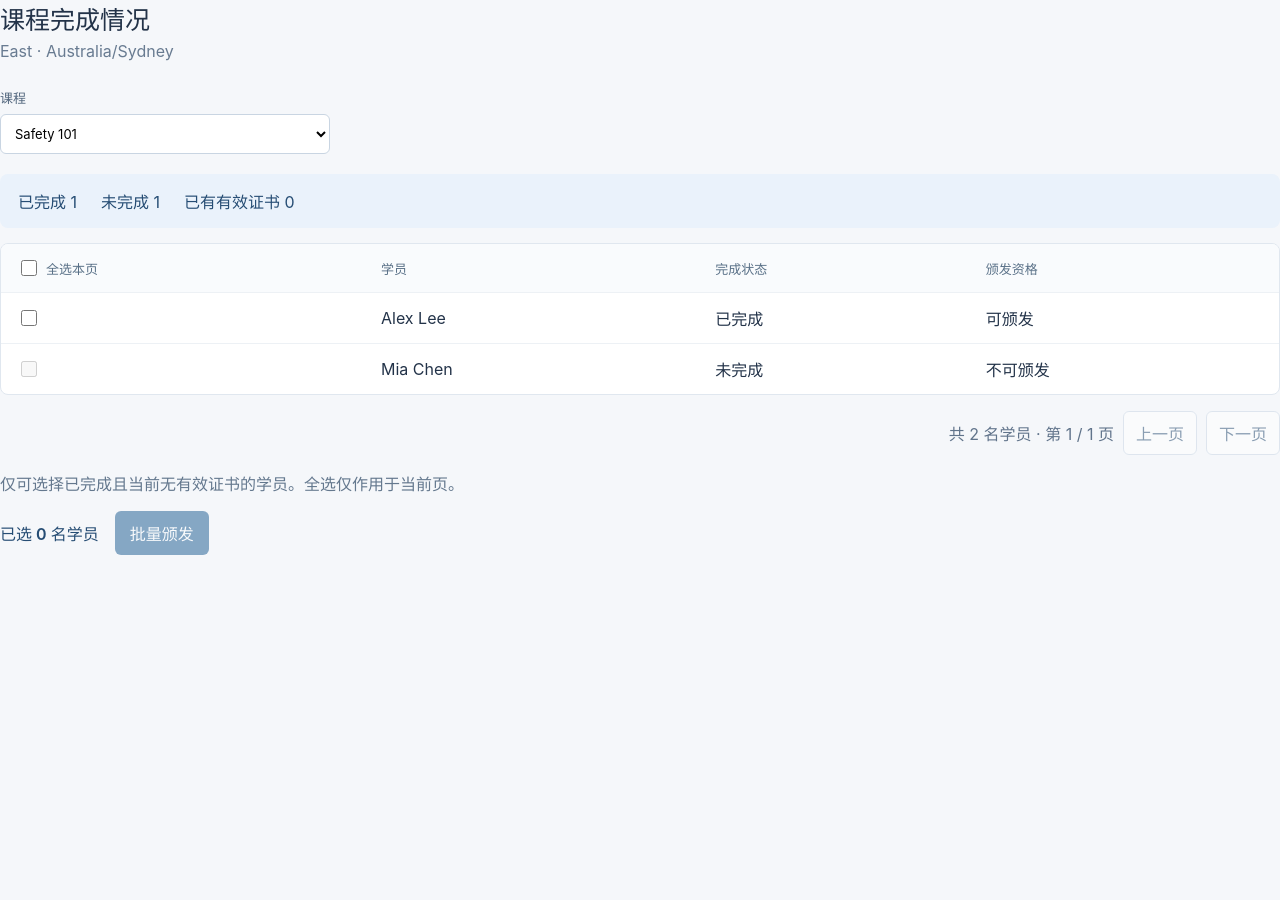
Scenario: retries an uncertain bulk issue with one key and shows every learner outcome
The image size is (1280, 900).
Expected: the text "Alex Lee" is shown, [365,292,699,344]
Click the checkbox named "选择 Alex Lee" at (29, 318), box [21,310,37,326]
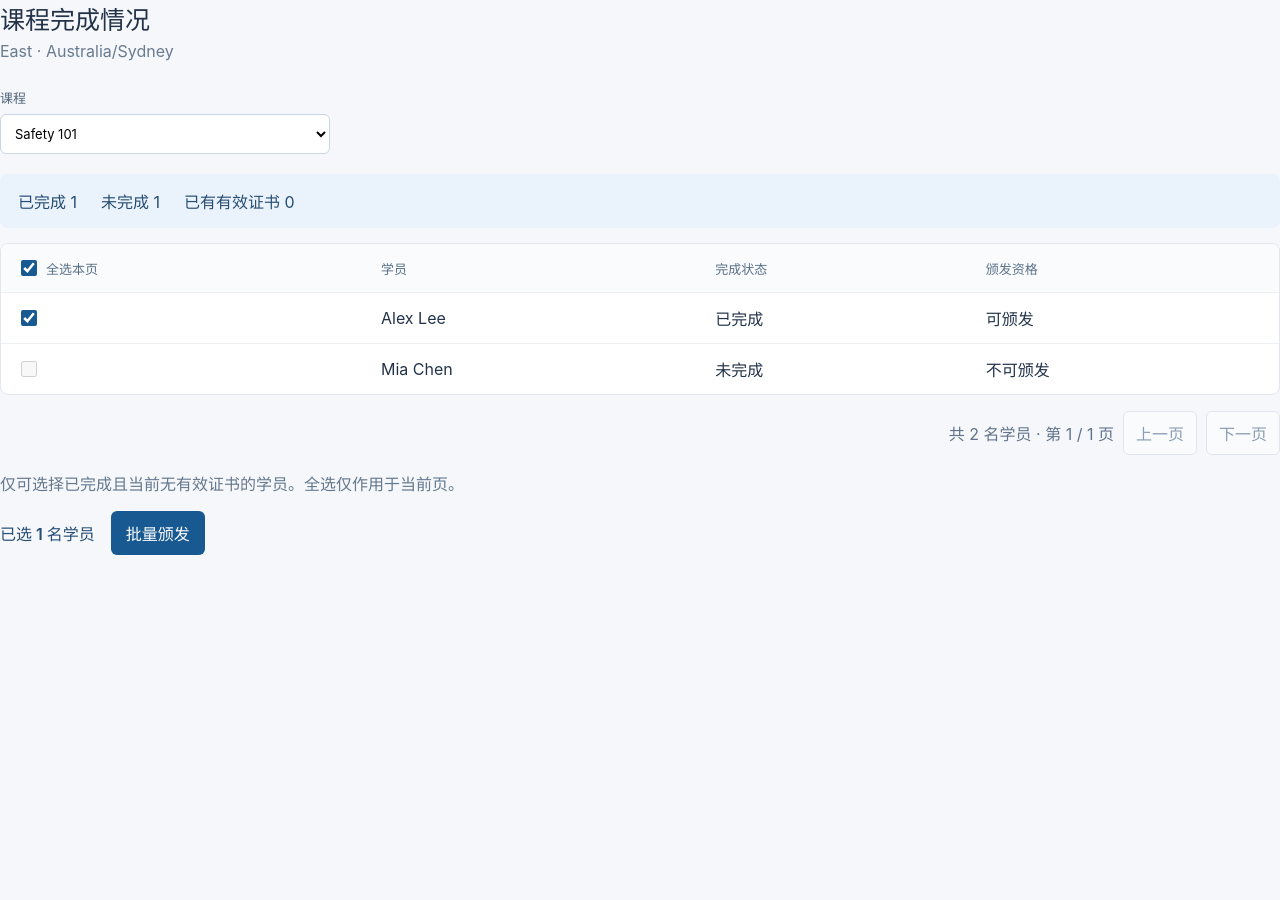
Click the button "批量颁发" at (158, 533), box [111,511,205,555]
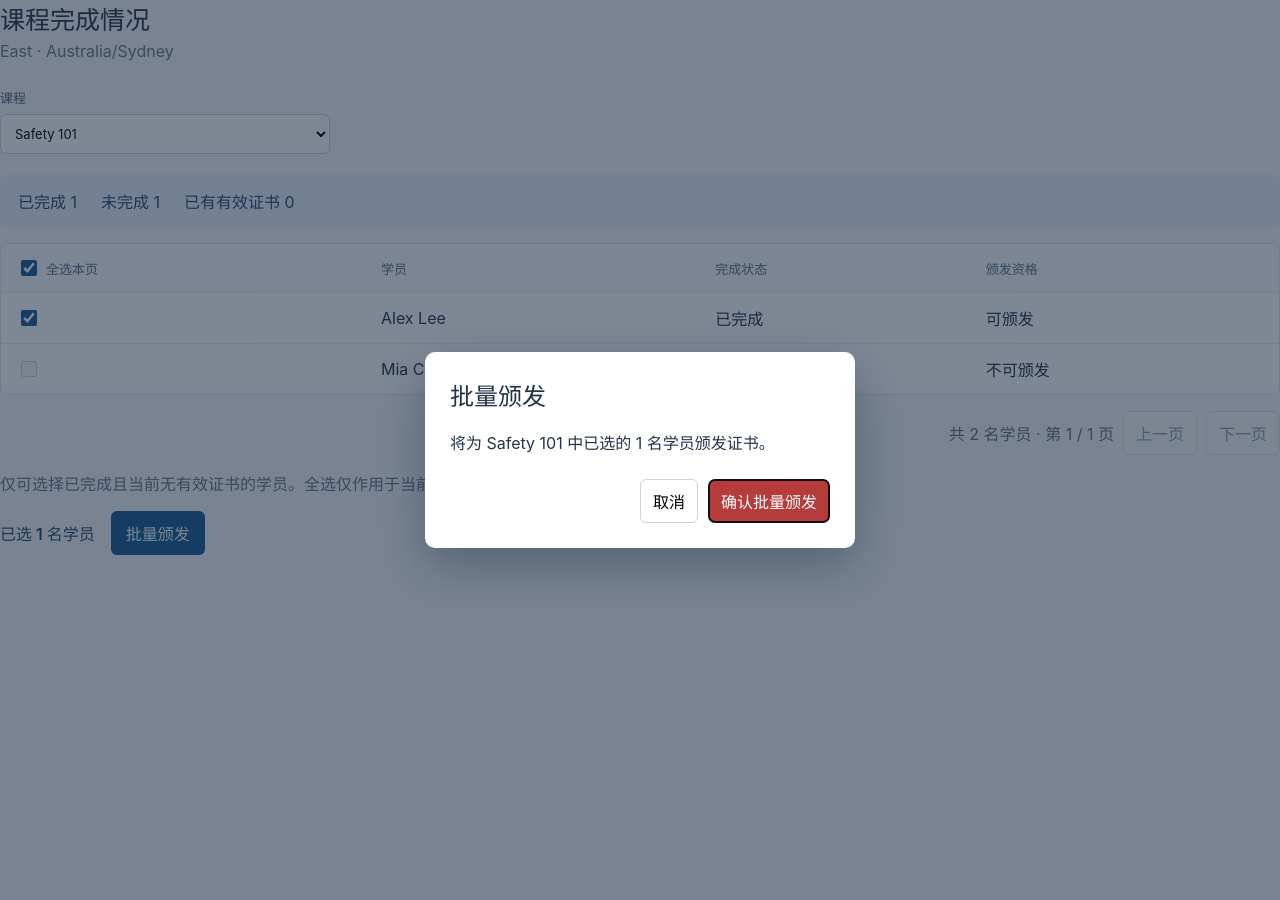
Click the button "确认批量颁发" at (769, 502), box [708,480,830,524]
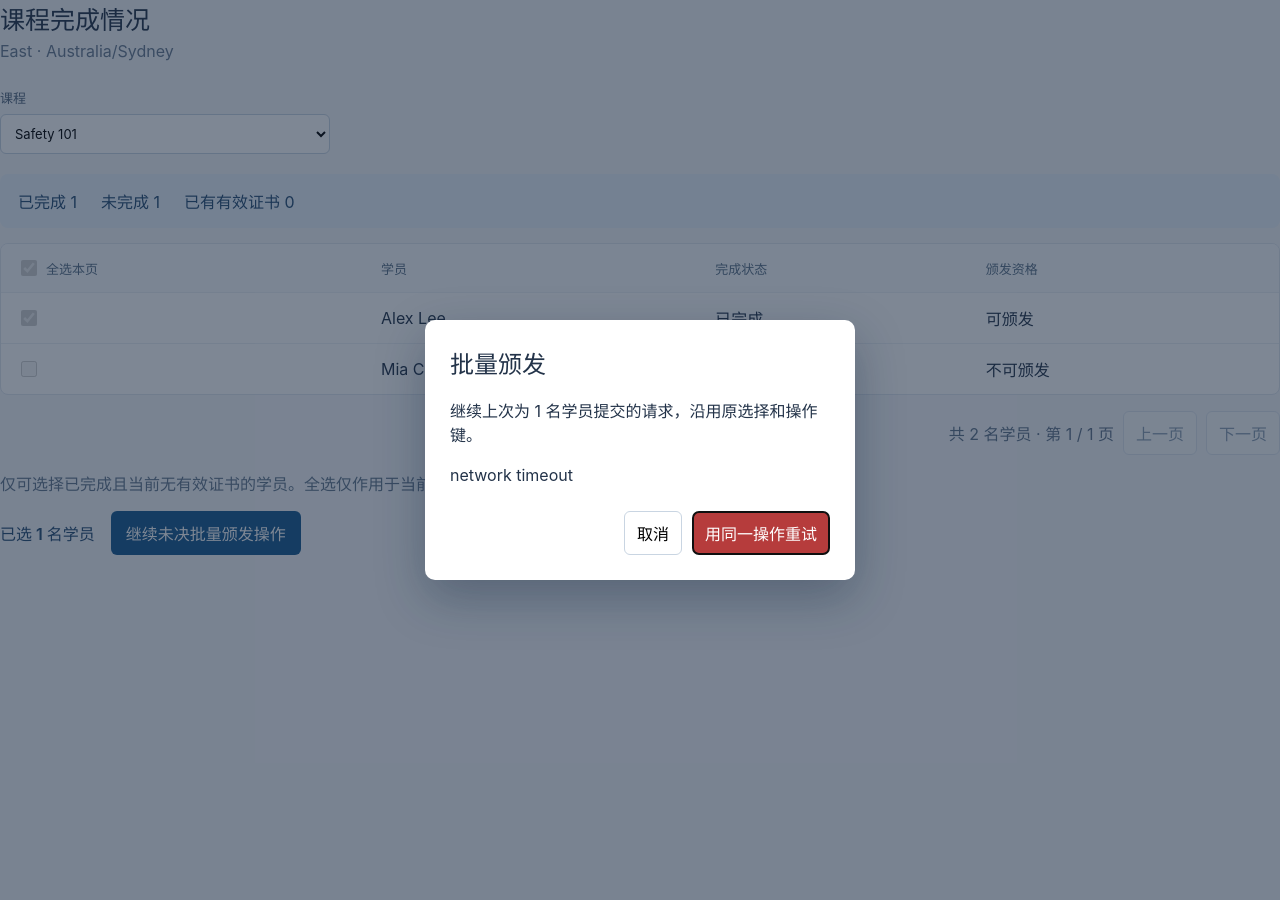
Expected: the text "network timeout" is shown, [450,466,573,486]
Click the button "用同一操作重试" at (761, 534), box [692,512,830,556]
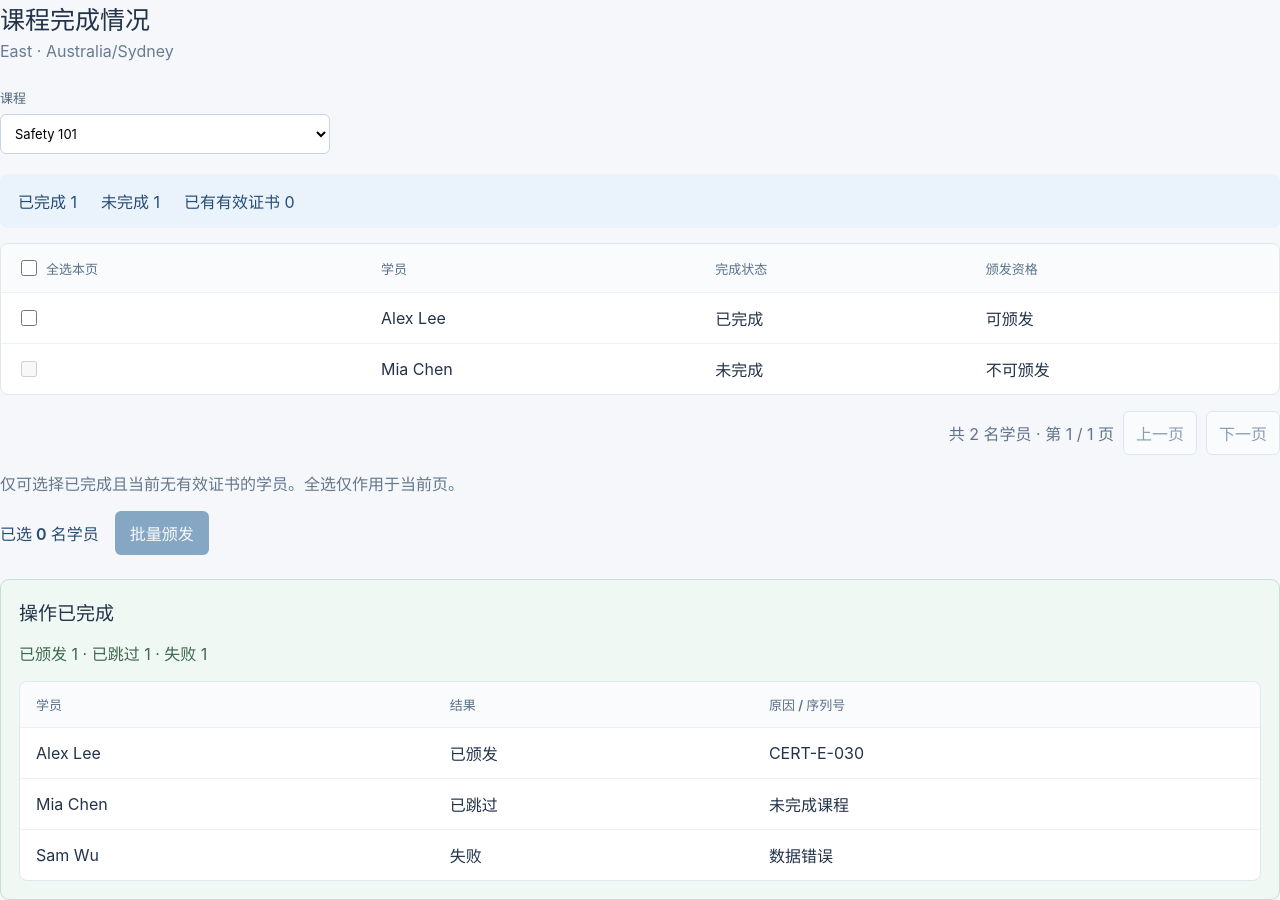
Expected: the text "CERT-E-030" is shown, [753,728,1260,778]
Expected: the text "未完成课程" is shown, [753,778,1260,830]
Expected: the text "数据错误" is shown, [753,830,1260,880]
